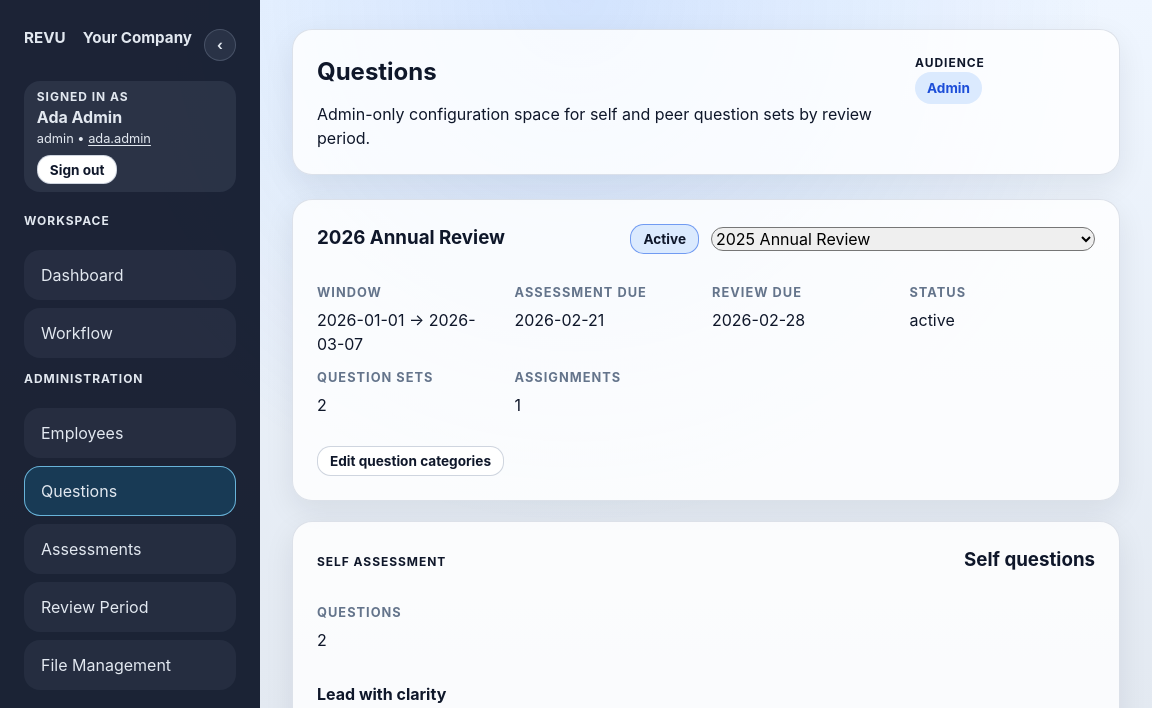
Test: questions screen › copies archived question sets into the active review period from the question-set dialog
Select "2025 Annual Review" in the dropdown: (903, 239) [711,227,1095,251]
Select "2025 Annual Review" in the dropdown: (903, 239) [711,227,1095,251]
(page scrolled)
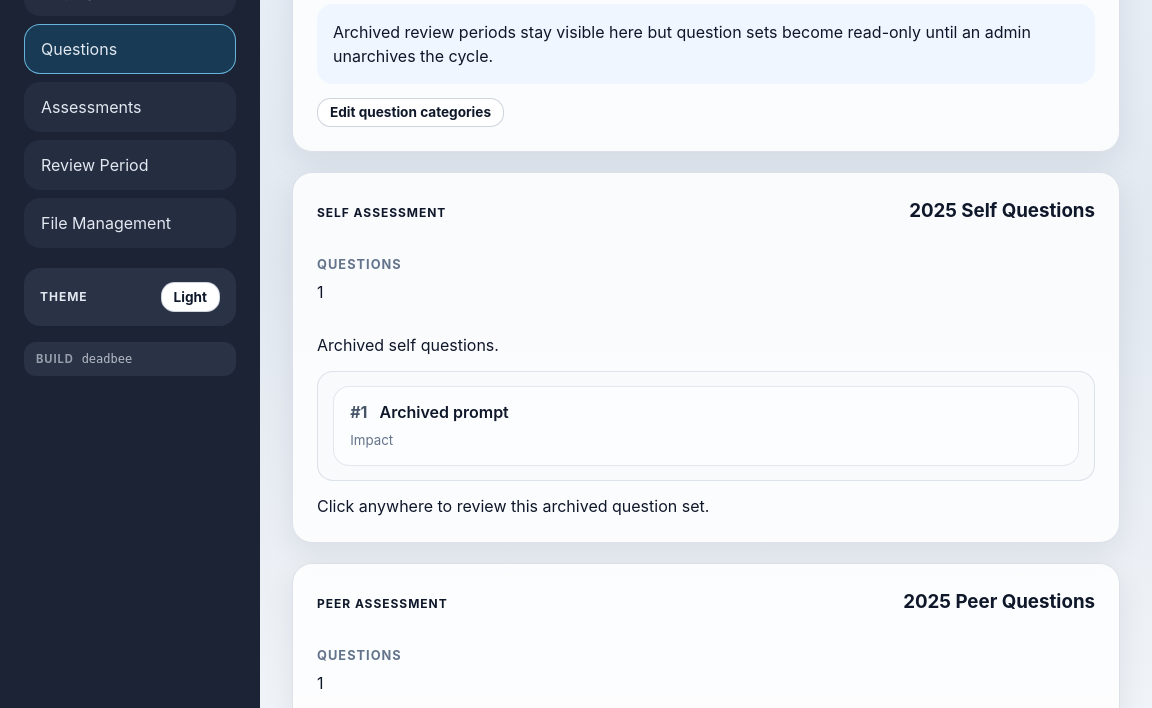
Click the button with aria-label "Edit self assessment question set": (706, 358) [292,172,1120,543]
(page scrolled)
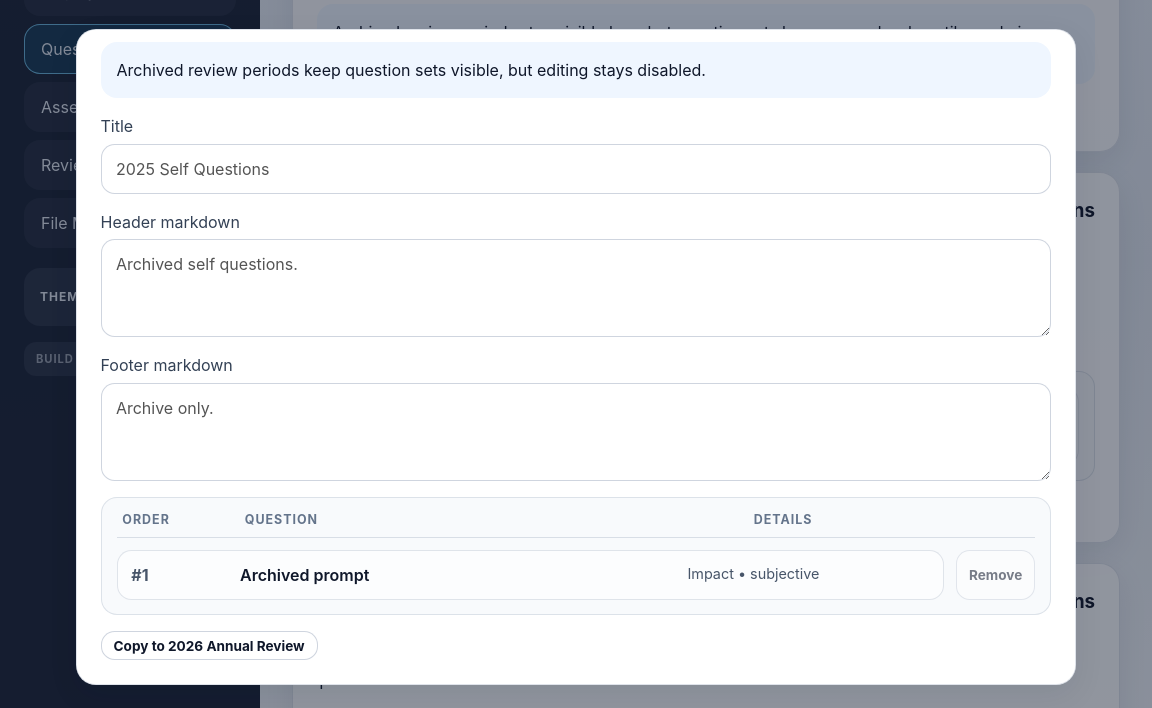
Result: the dialog is shown
Result: the button "Copy to 2026 Annual Review" is shown
Click the button "Copy to 2026 Annual Review": (209, 646) [100,631,318,660]
(page scrolled)
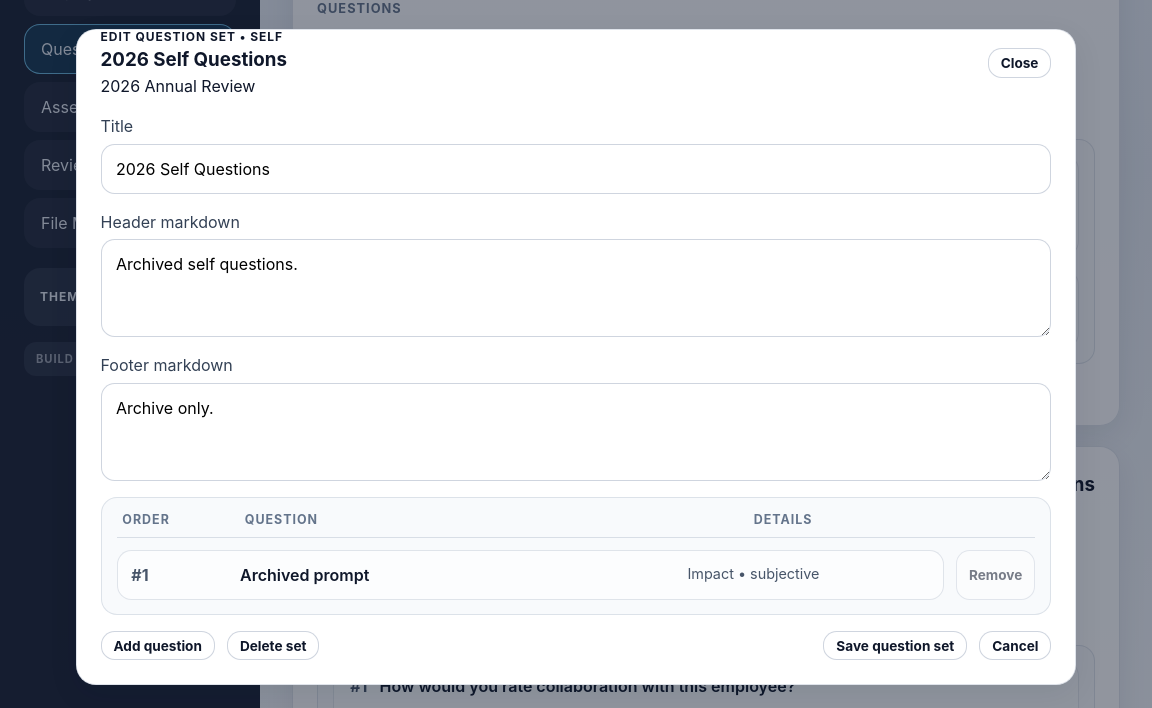
Result: the dialog shows "2026 Self Questions" at [100,48,287,71]
